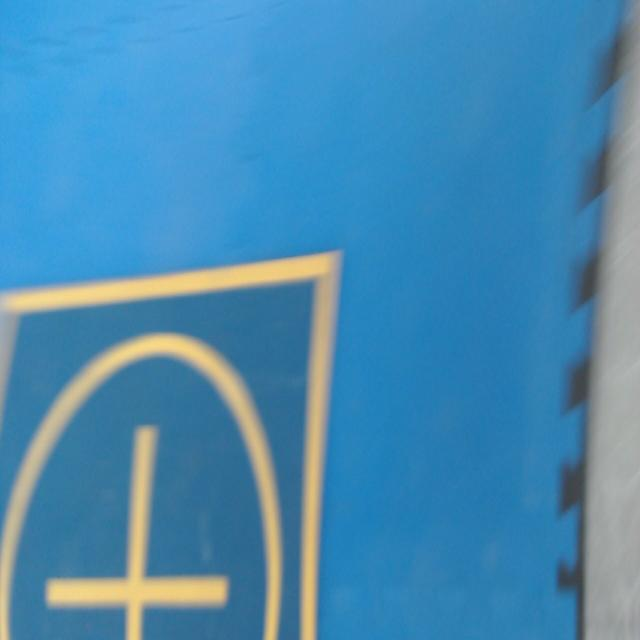base_pouso: (0, 249, 343, 639)
